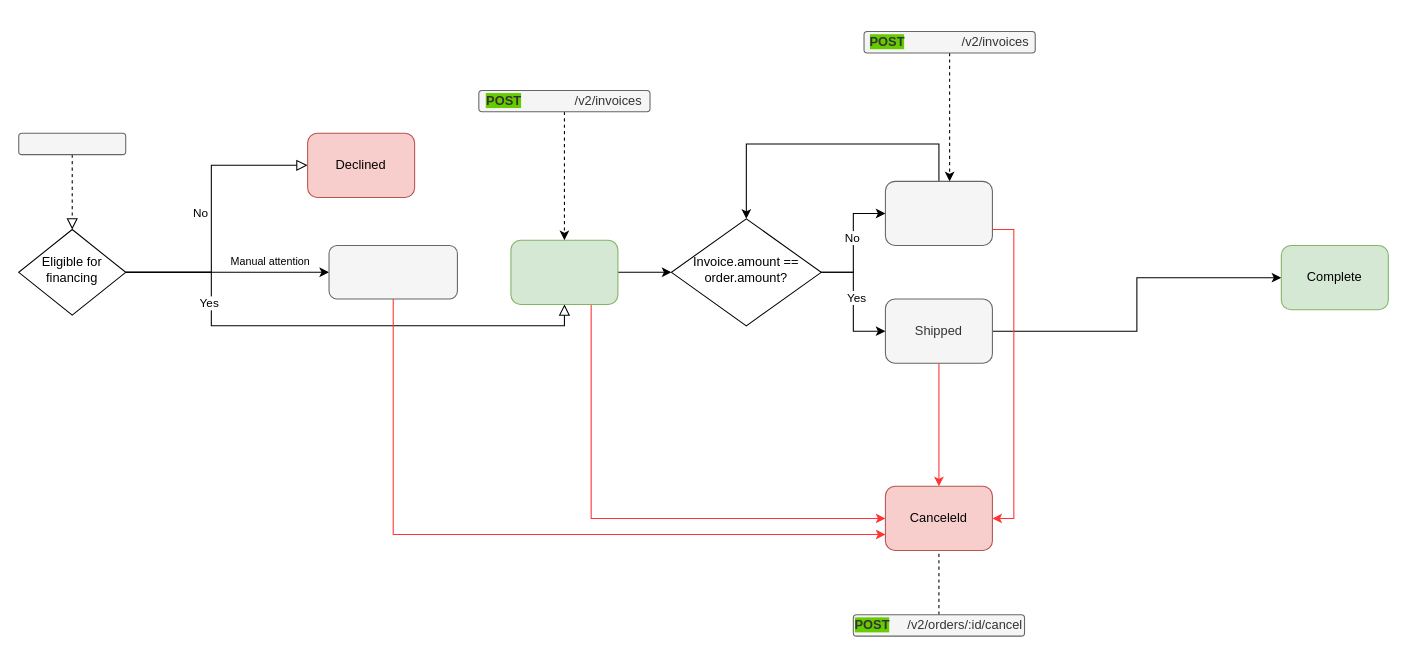
Image size: 1407x667. Some labels were removed from this diagram. The centre of each missing label's shape, as x and y in pixels:
Created: point 564,271
Decision Pending: point 392,271
Partially Shipped: point 938,213
POST /v2/orders: point 72,143
